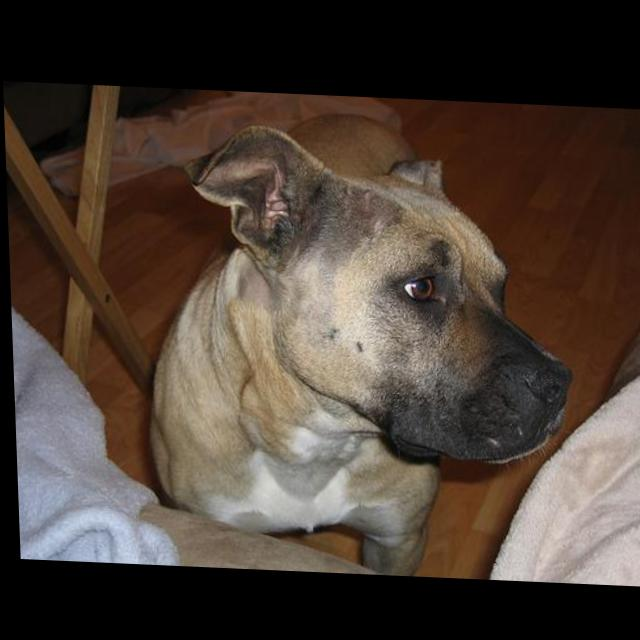amstaff: (136, 102, 579, 580)
